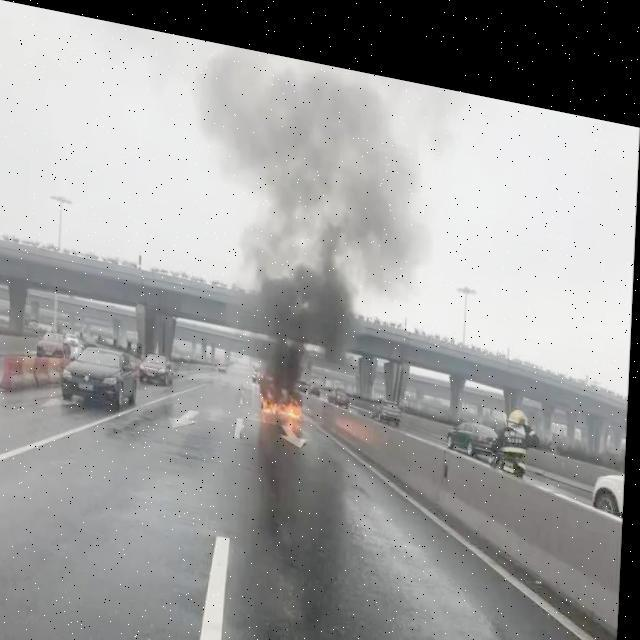Fire: (263, 376, 307, 406)
